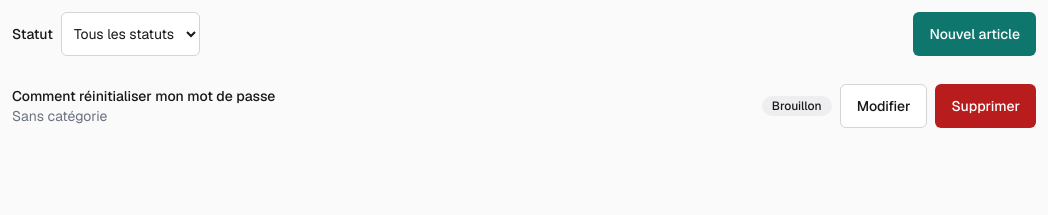
Test: HelpCenterArticlesSection › supprime un article
Expected: the text "Comment réinitialiser mon mot de passe" is shown, [12,86,275,106]
Click the button "Supprimer" at coordinates (986, 106), box [935,84,1036,128]
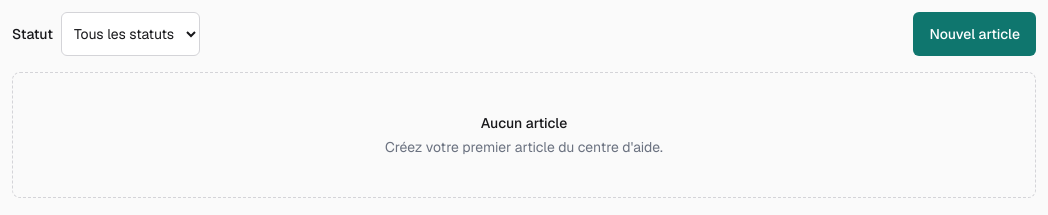
Now the text "Comment réinitialiser mon mot de passe" is gone
